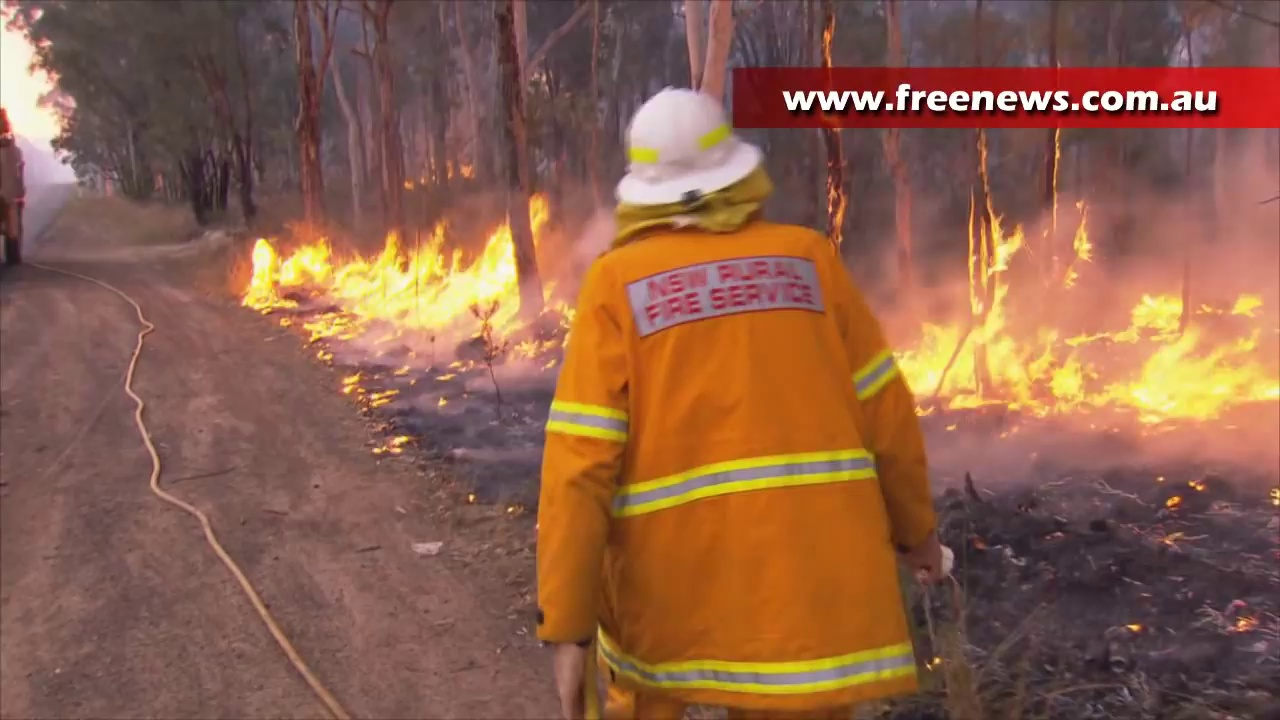fire: (247, 227, 513, 314), (1115, 289, 1280, 413), (910, 329, 1086, 414), (968, 217, 1006, 312), (1074, 220, 1098, 260)
